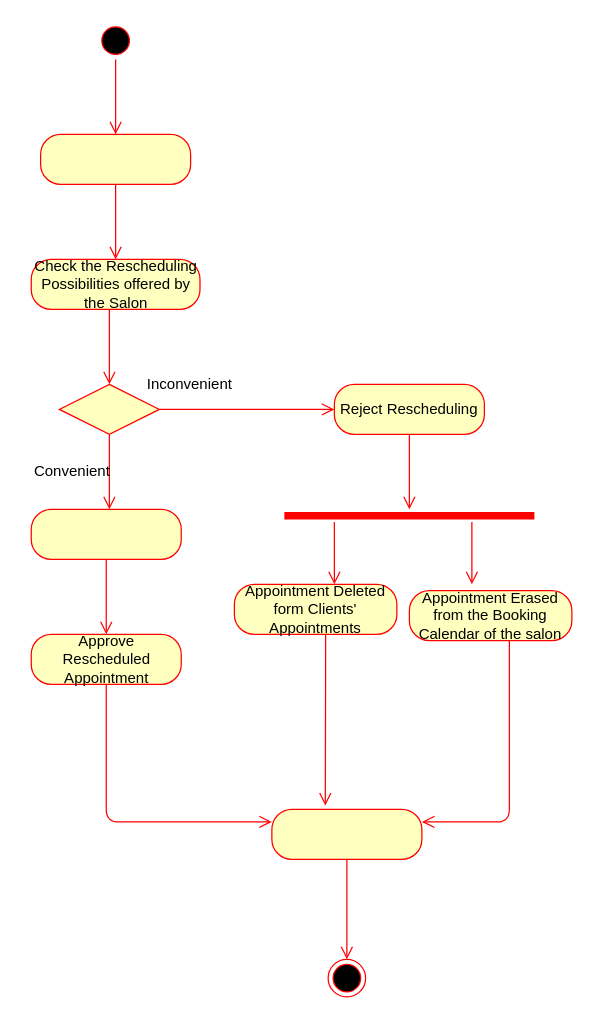
This 594x1019 diagram has some shape labels left out. Here are the shapes that lost their labels. From the top down, the box of each, then its label:
(39, 133, 191, 184): Do to Dashboard/ Appointments
(30, 508, 181, 559): Pick one of the Rescheduling Options
(271, 808, 422, 859): Back to Appointments' Table
